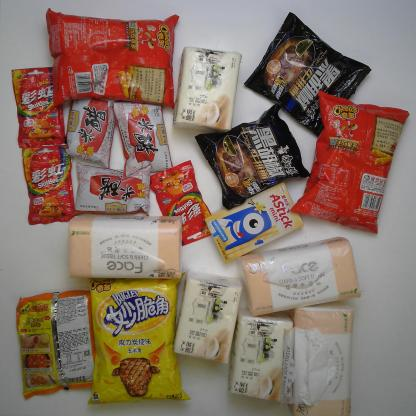Candy: (150, 160, 214, 246), (9, 67, 70, 149), (21, 144, 75, 225)
Dessert: (205, 181, 303, 262)
Instant Noodles: (244, 12, 372, 135), (193, 104, 314, 210), (17, 288, 98, 398)
Puffed Food: (290, 91, 410, 236), (43, 6, 183, 108), (88, 276, 191, 407)
Seasoner: (111, 99, 174, 176), (74, 162, 152, 216), (63, 94, 119, 167)
Tissue: (238, 235, 360, 316), (284, 304, 354, 416), (67, 214, 183, 278), (172, 271, 242, 367), (172, 46, 245, 134), (229, 310, 295, 404)
